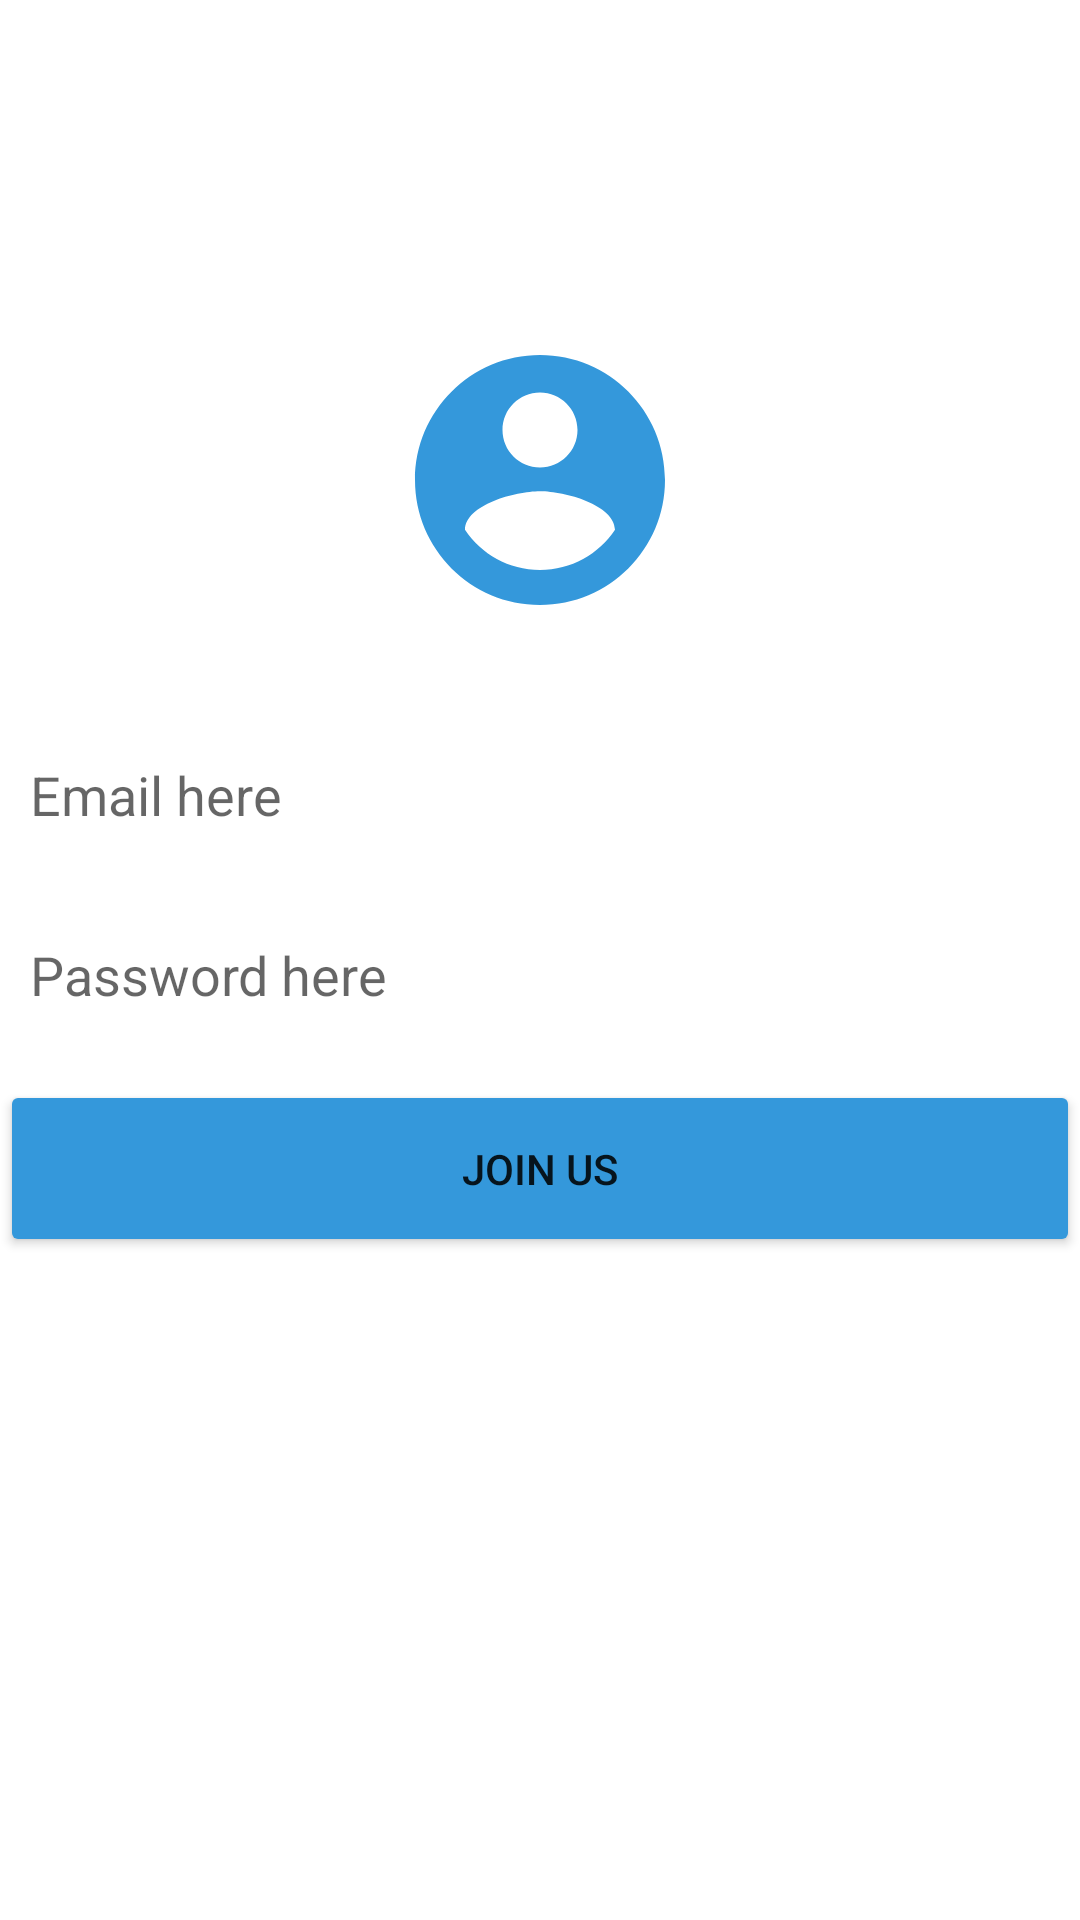

Screen size 1080 x 1920. Icon name, then its box in pixels as (x1, y1, x2, y2):
account circle: (415, 355, 665, 605)
